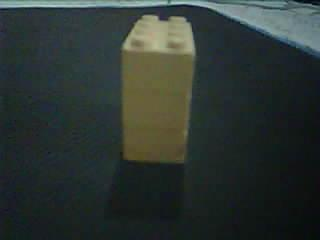lego: (119, 12, 198, 165)
